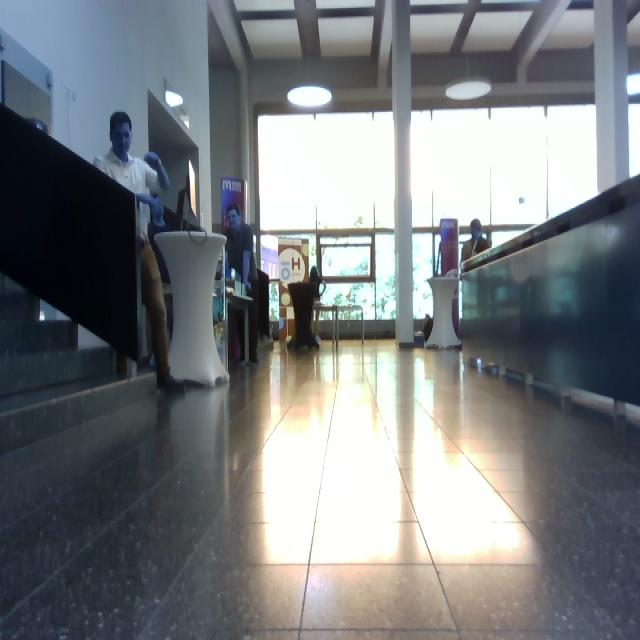light bulb: (445, 77, 492, 101), (287, 85, 333, 108), (28, 117, 49, 136), (165, 90, 184, 108), (180, 114, 190, 129)
person: (93, 111, 186, 395), (224, 202, 260, 365), (462, 219, 492, 263)
pillar: (391, 1, 415, 346), (593, 1, 631, 193)
table: (154, 228, 233, 393)
tiled floor: (2, 335, 639, 639)
